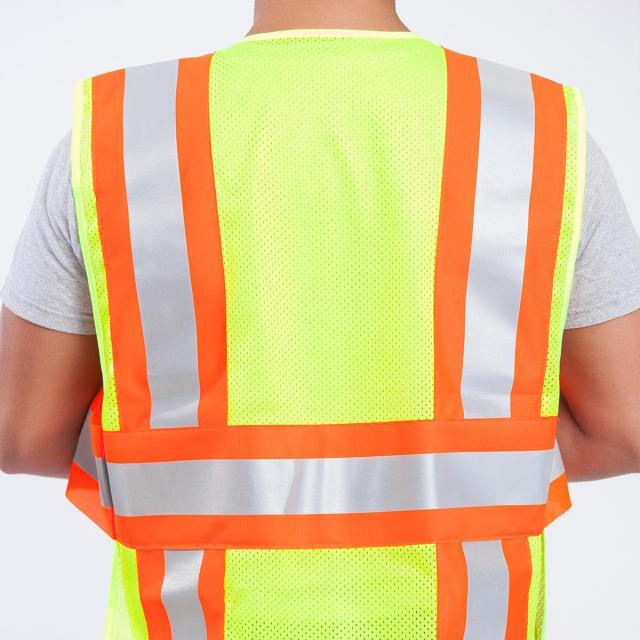Vest: (68, 28, 587, 639)
